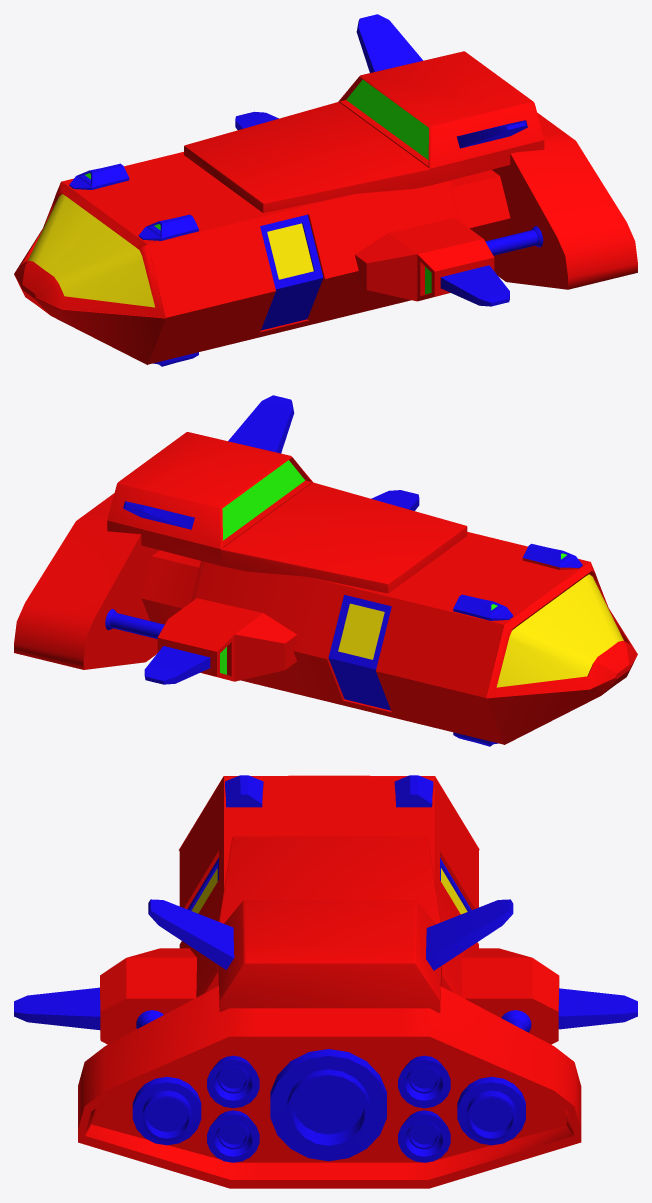
Rendered from Shuttle.FBX.
3 renders of one model, top to bottom at view 1: azimuth 30°, elevation 25°; view 2: azimuth 150°, elevation 25°; view 3: azimuth 270°, elevation 25°, orthographic. The views are drawn at different scales.
Visible parts, largest first — view 1: Shuttle; view 2: Shuttle; view 3: Shuttle.
Part boxes in pixels (left/top/right/bottom): Shuttle: left=14, top=14, right=637, bottom=366; Shuttle: left=14, top=395, right=637, bottom=746; Shuttle: left=14, top=775, right=637, bottom=1188.
Size of the model in its own units: 1126 by 405 by 976.
